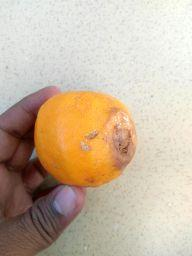orange: (33, 89, 138, 189)
